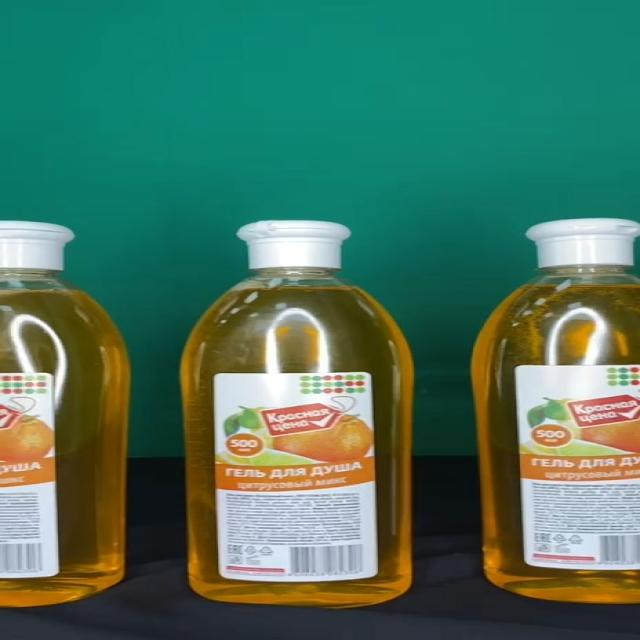Bottle: (181, 220, 414, 608), (472, 219, 640, 604)
Cap: (236, 219, 352, 268), (524, 219, 640, 267)
